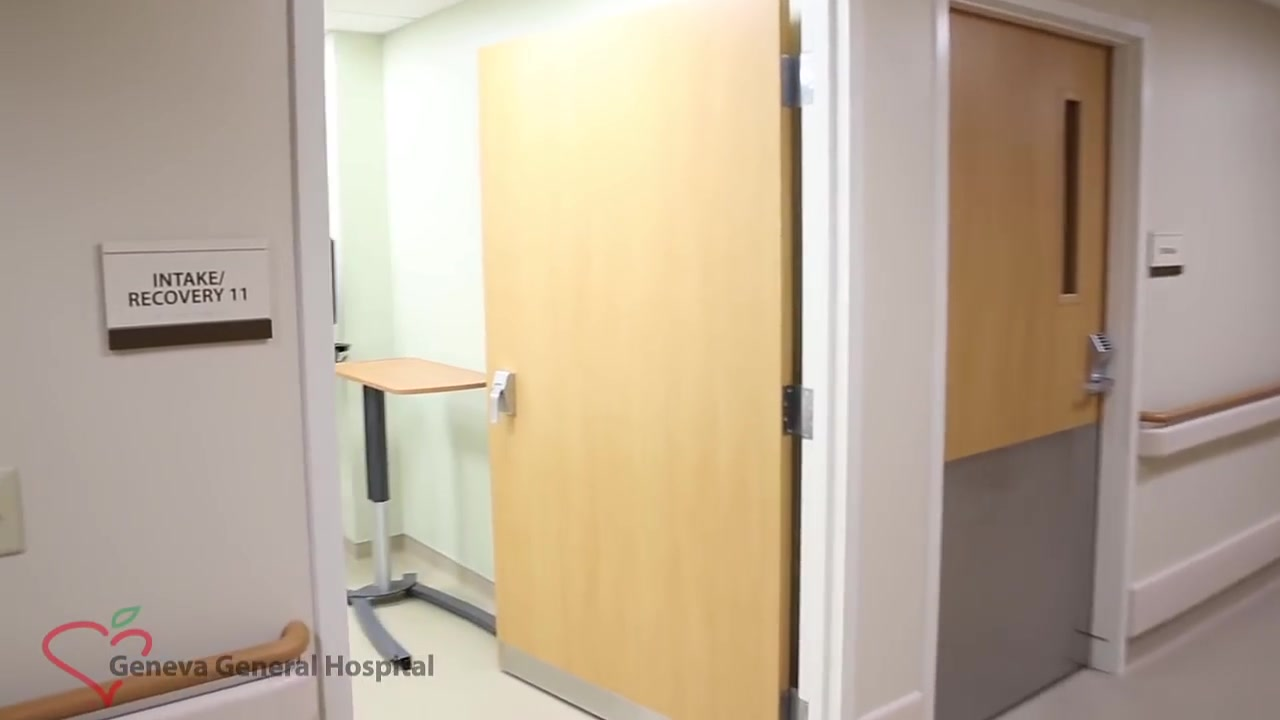door_handle: (489, 382, 511, 426), (1079, 374, 1117, 396)
hallway_assist_bar: (1, 615, 312, 720), (1138, 383, 1280, 457)
overbed_table: (333, 351, 493, 664)
